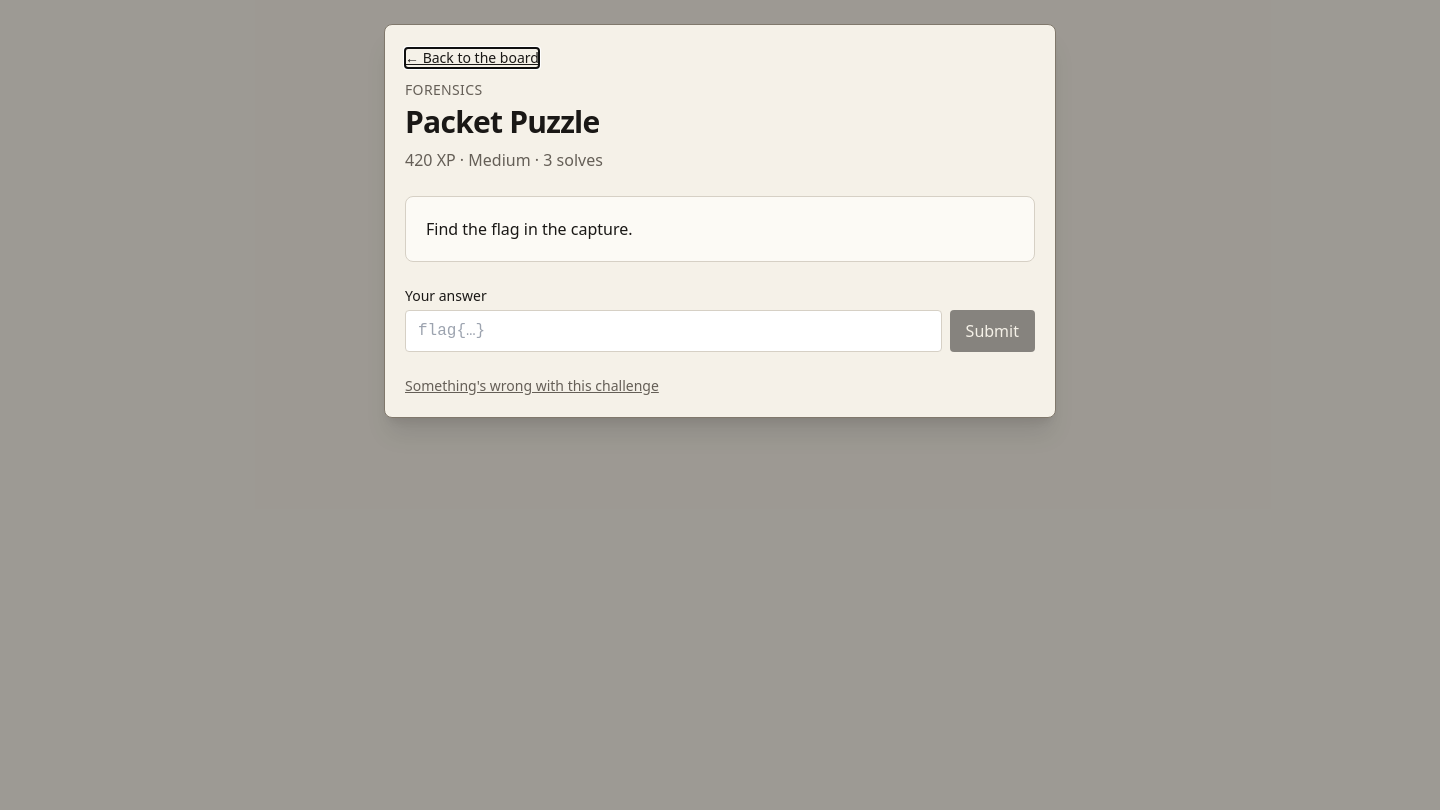
Test case: ChallengeDetailPage › reports a wrong answer without discouraging a retry
The image size is (1440, 810).
Type "nope" into the field labelled "Your answer" at point(673, 331), box [405,310,942,352]
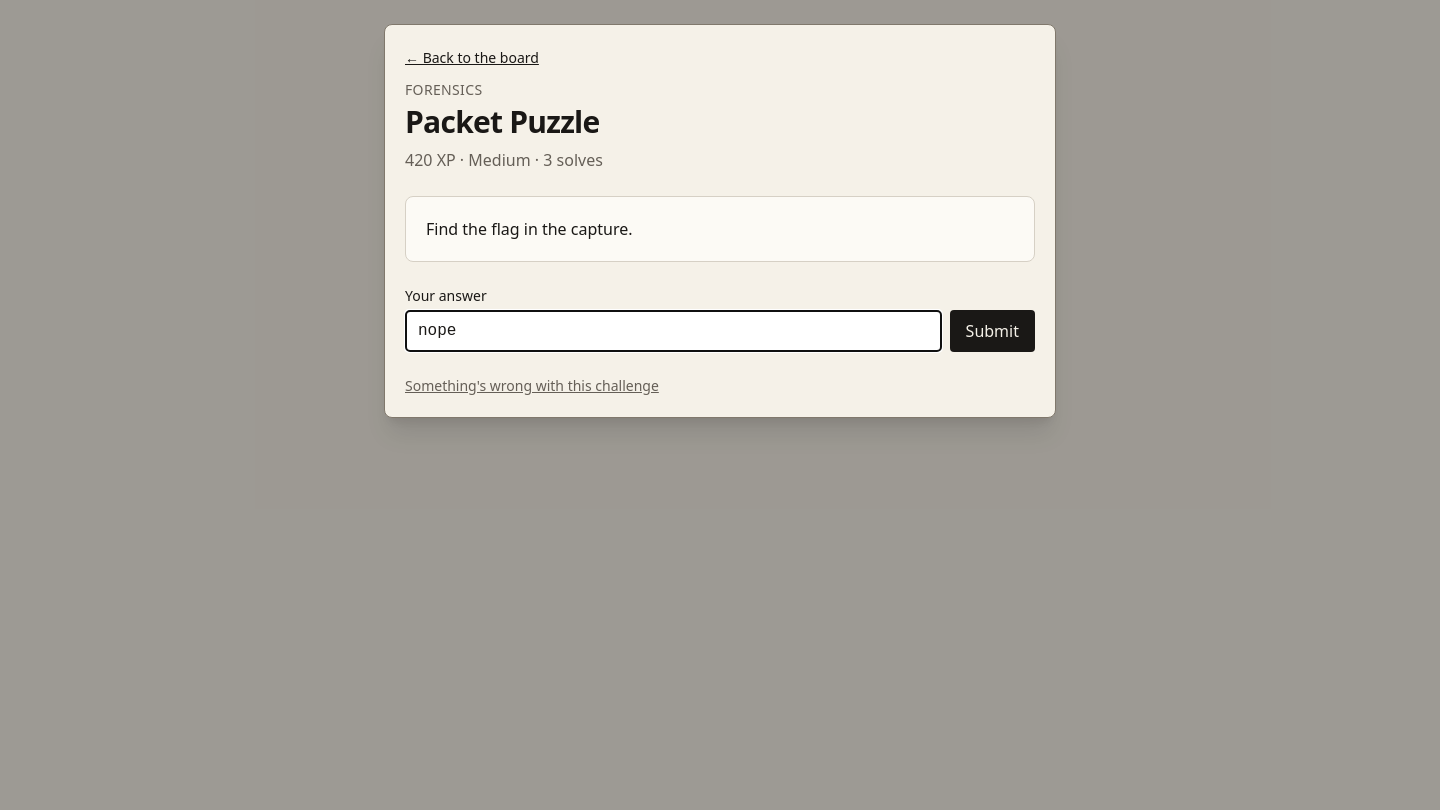
Click the button "Submit" at point(992, 331), box [950,310,1035,352]
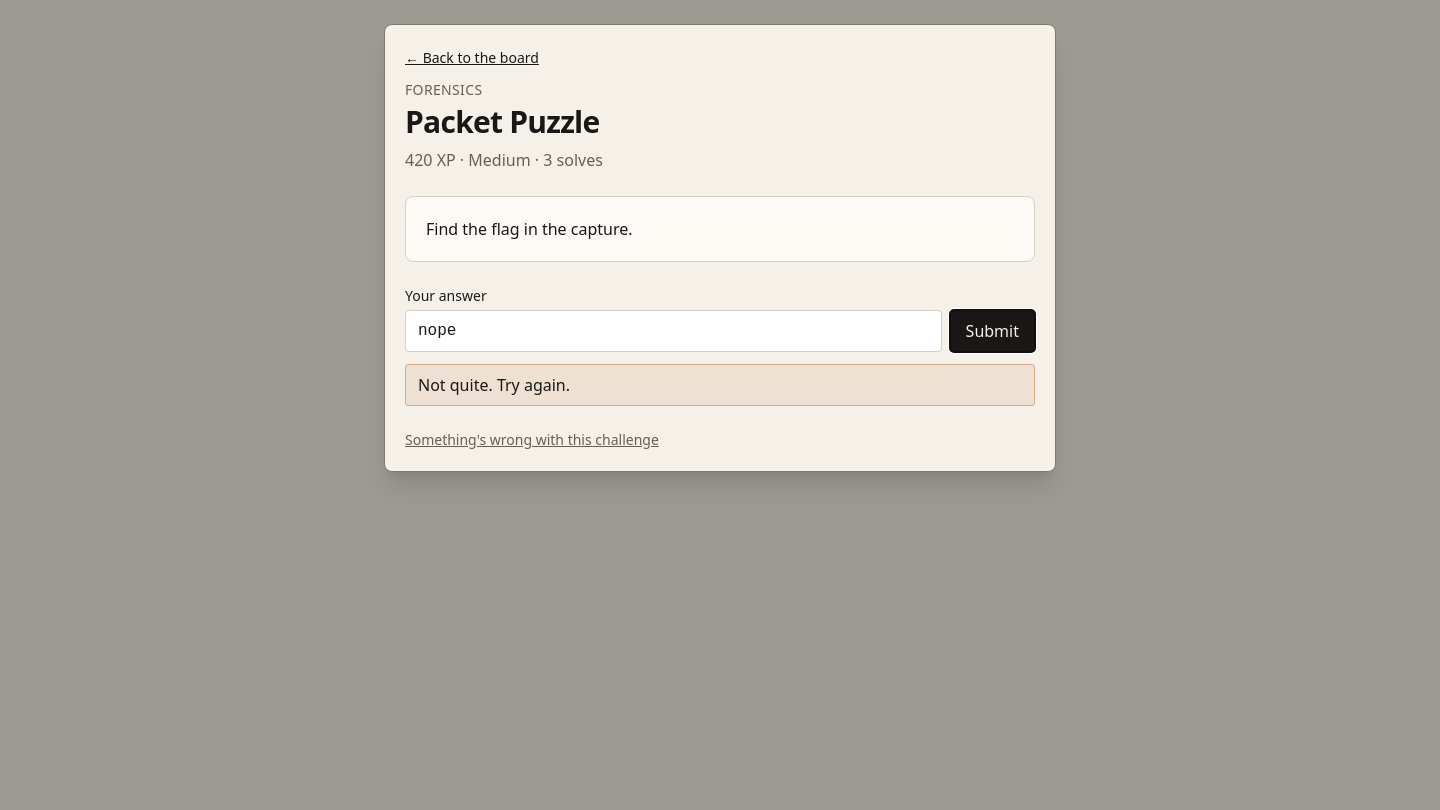
Expected: the field labelled "Your answer" is enabled, [405,310,942,352]
Now the message shows "Not quite", box [418,374,570,396]
